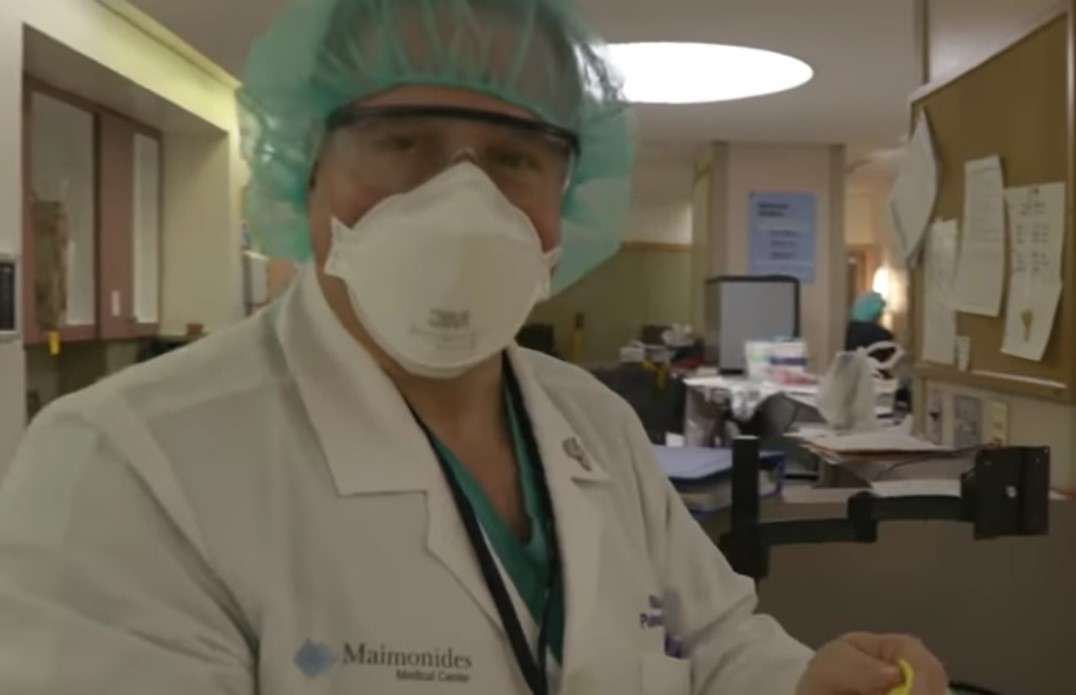face_with_mask: (239, 4, 631, 388)
